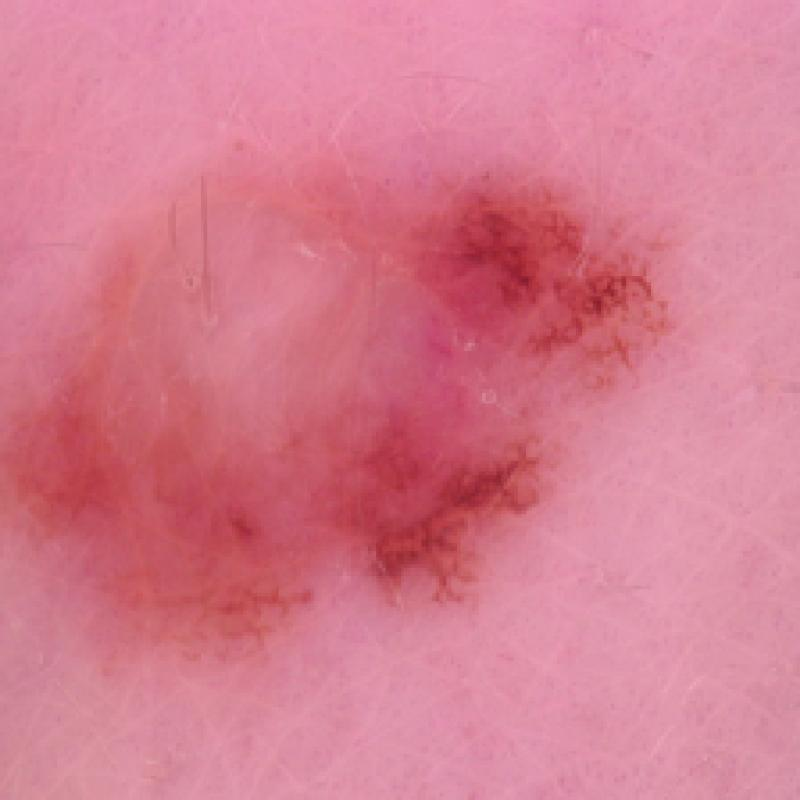benign: (7, 140, 689, 674)
